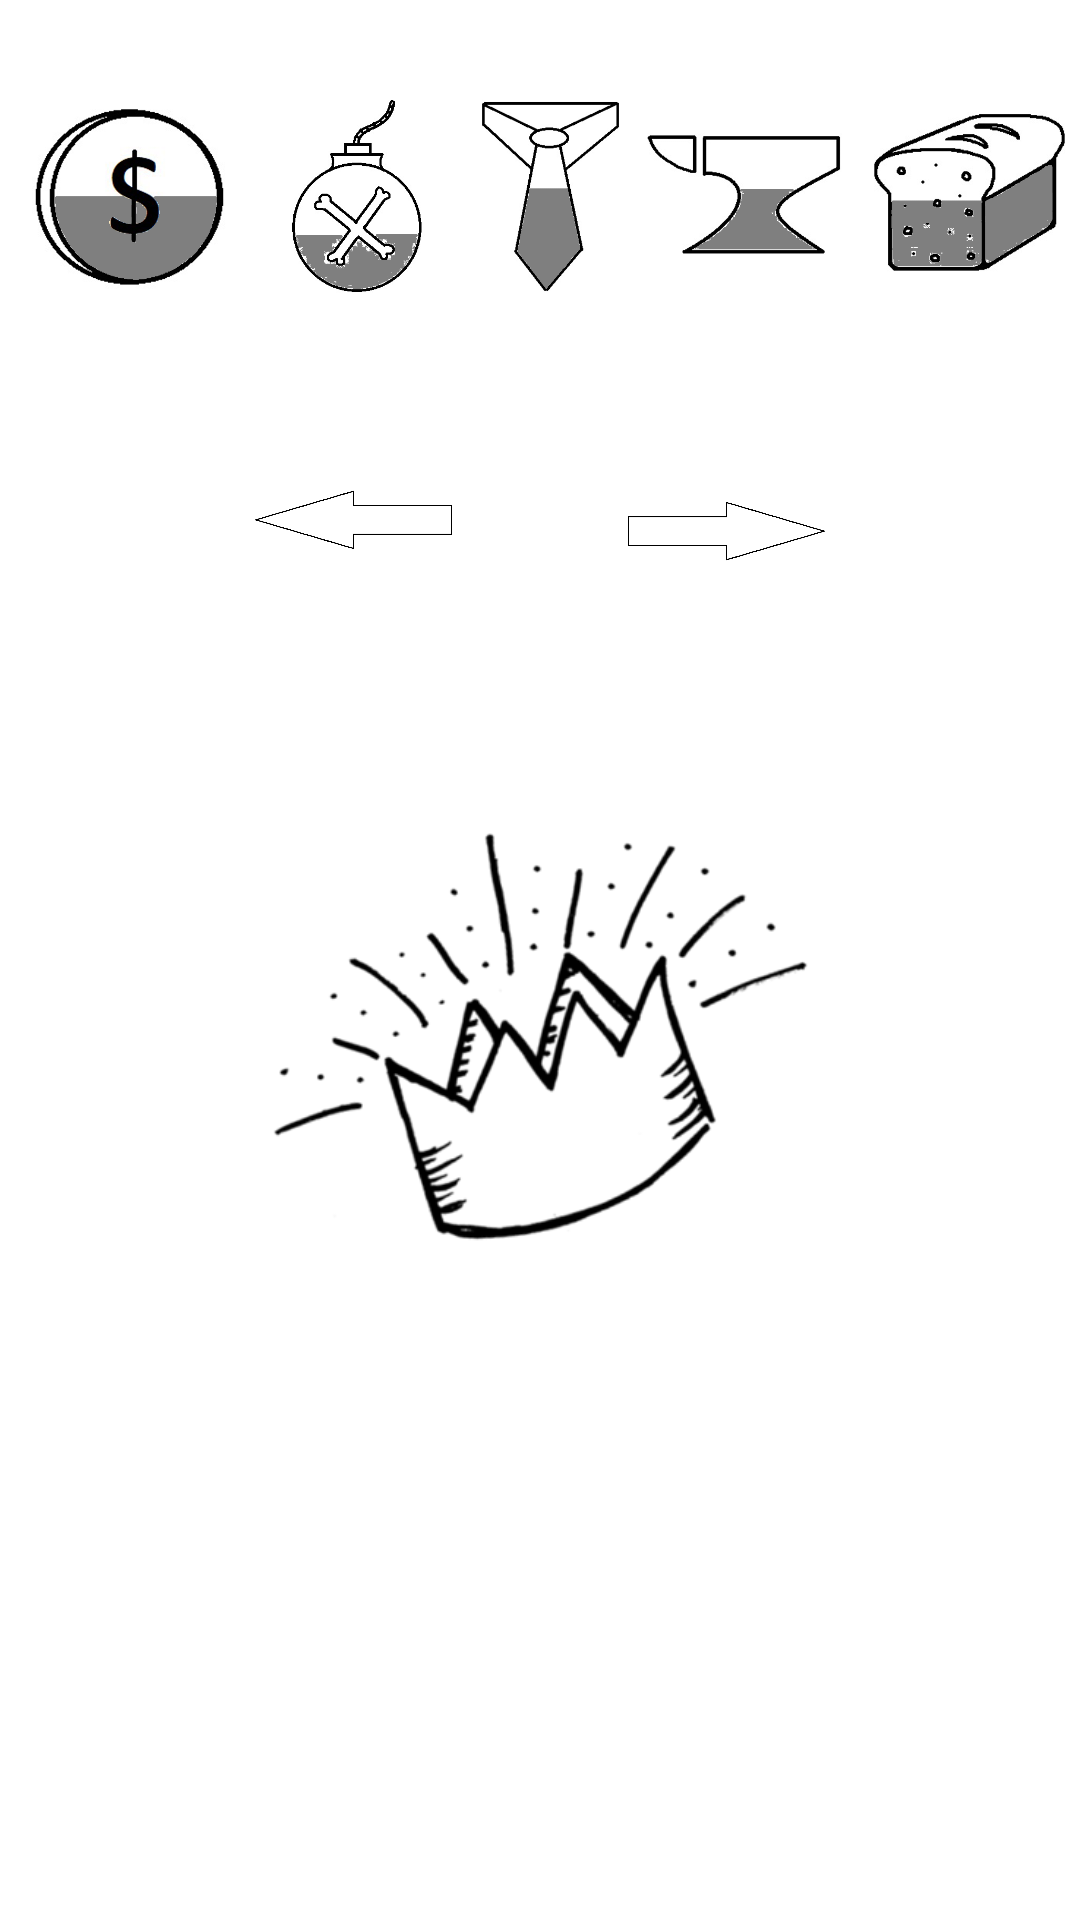

Icon bounding boxes for this 1080 x 1920 phone screenshot, format (x1, y1, x2, y2):
anvil third: (647, 135, 840, 254)
bomb third: (292, 100, 422, 292)
bread third: (874, 114, 1065, 271)
coin third: (35, 109, 224, 285)
tie third: (482, 102, 619, 291)
